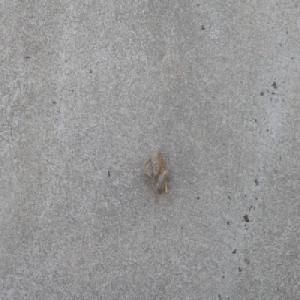Rock: (138, 142, 169, 195)
